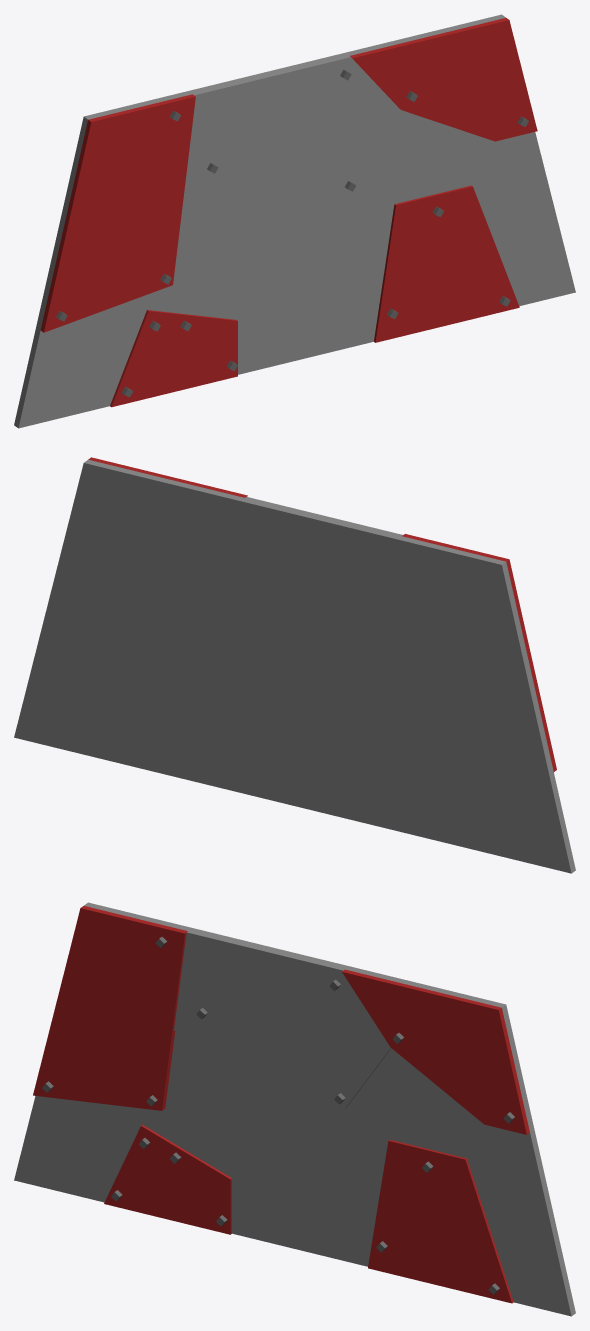
File: Prop_Building_Savage_Metal_Plated_Sheet_Angled_01.FBX
The picture shows the model from 3 angles, top to bottom: view 1: azimuth 30°, elevation 25°; view 2: azimuth 150°, elevation 25°; view 3: azimuth 330°, elevation 25°; orthographic projection.
Visible parts, largest first — view 1: Prop_Building_Savage_Metal_Plated_Sheet_Angled_01; view 2: Prop_Building_Savage_Metal_Plated_Sheet_Angled_01; view 3: Prop_Building_Savage_Metal_Plated_Sheet_Angled_01.
Boxes of the visible parts, left/top/right/bottom form: Prop_Building_Savage_Metal_Plated_Sheet_Angled_01: left=14, top=14, right=575, bottom=428; Prop_Building_Savage_Metal_Plated_Sheet_Angled_01: left=14, top=457, right=575, bottom=873; Prop_Building_Savage_Metal_Plated_Sheet_Angled_01: left=14, top=902, right=575, bottom=1316.
Size of the model in its own units: 6000 by 3000 by 200.
